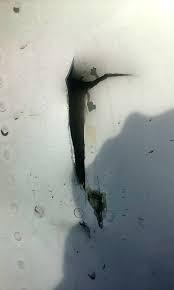Fuselage_damage: (53, 52, 141, 239)
